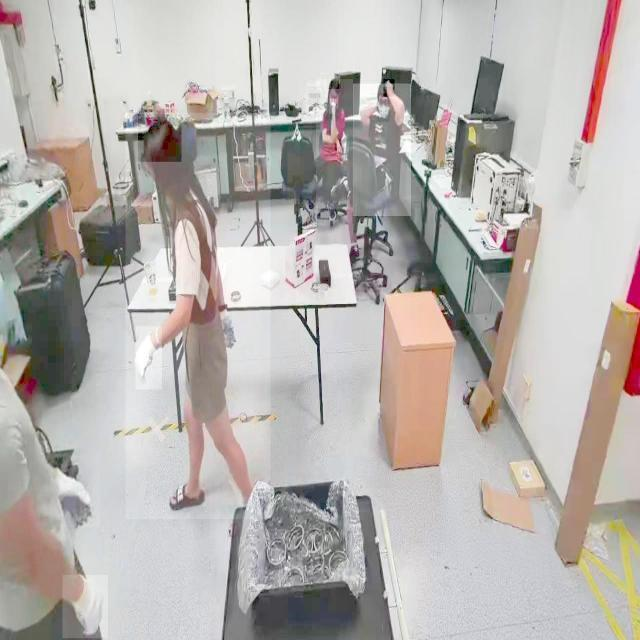gloves: (50, 454, 100, 528), (63, 575, 109, 639), (136, 326, 162, 390)
